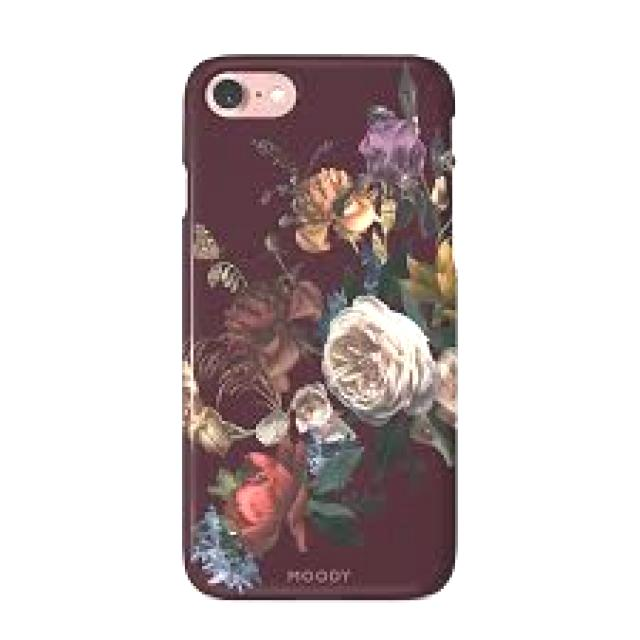lens: (213, 70, 299, 118)
phone: (176, 49, 462, 601)
